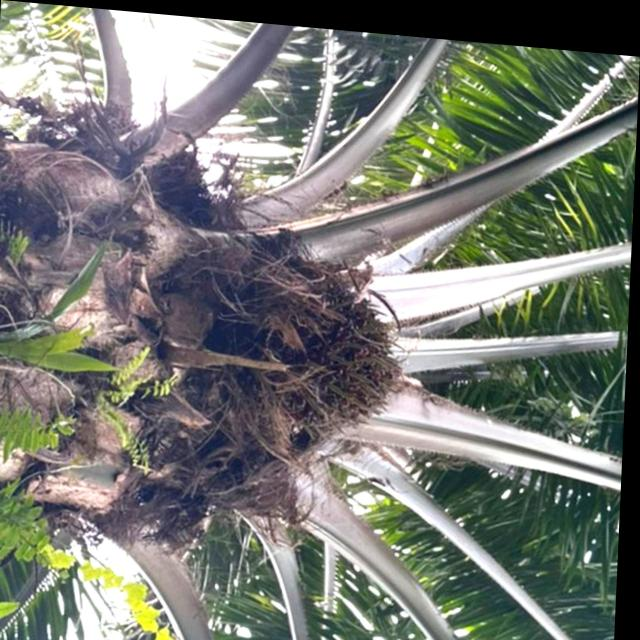ripe: (255, 248, 434, 456)
